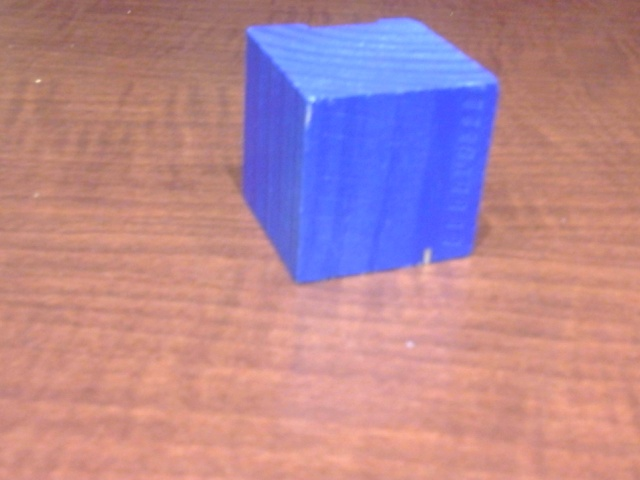BlueBlock: (242, 17, 499, 284)
